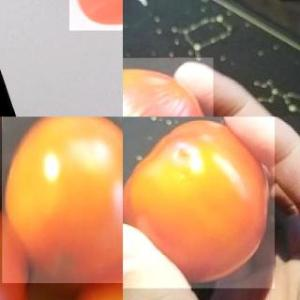tomato: (124, 118, 274, 288), (2, 116, 122, 282), (64, 258, 122, 300)
